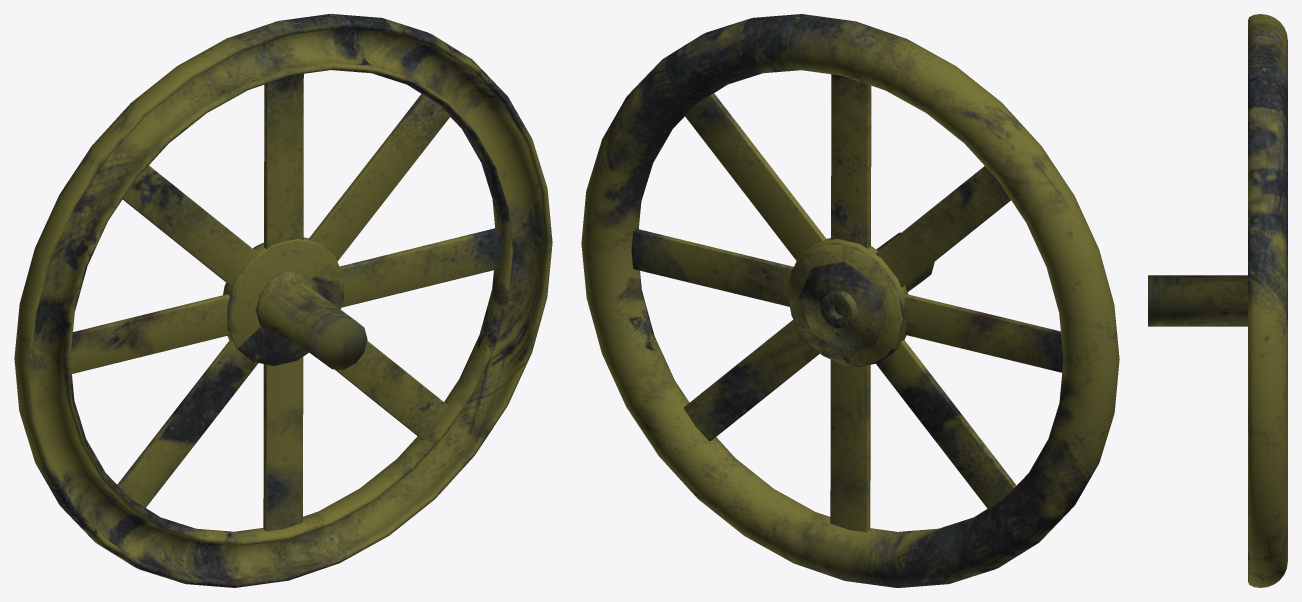
Rendered from valve.fbx.
3 views of the same model, side by side, from view 1: azimuth 30°, elevation 25°; view 2: azimuth 150°, elevation 25°; view 3: azimuth 270°, elevation 25° (orthographic). The views are drawn at different scales.
Parts seen in each view (by area): view 1: valve; view 2: valve; view 3: valve.
Boxes of the visible parts, left/top/right/bottom form: valve: left=14, top=14, right=552, bottom=587; valve: left=581, top=14, right=1119, bottom=587; valve: left=1148, top=14, right=1287, bottom=587.
Size of the model in its own units: 334 by 334 by 81.14.
